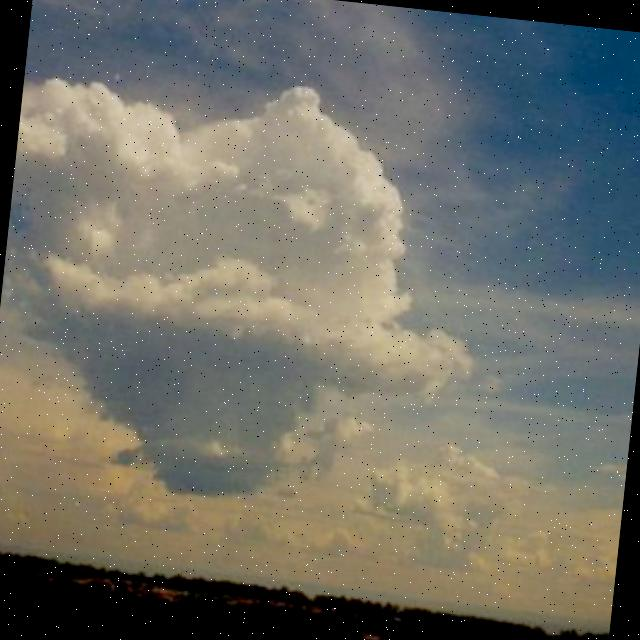Cs: (1, 1, 640, 554)
